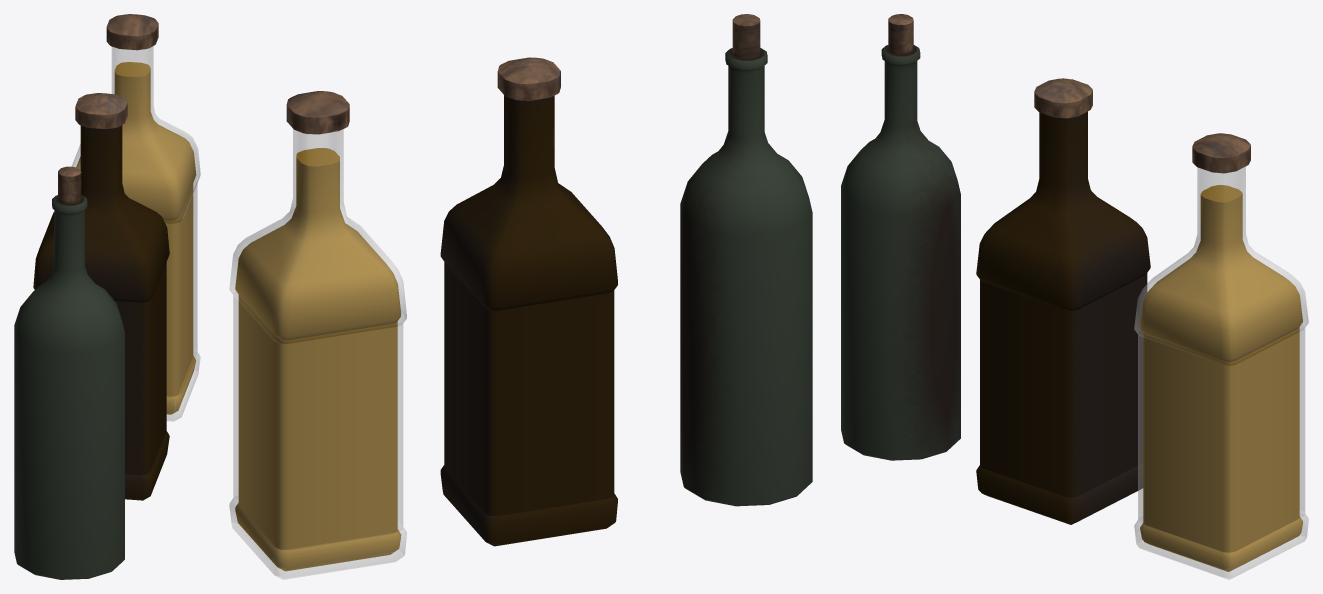
The model's file is whiskey-and-wine-low-poly-bottles-99999f.glb.
The picture shows the model from 3 angles, left to right: view 1: azimuth 30°, elevation 25°; view 2: azimuth 150°, elevation 25°; view 3: azimuth 270°, elevation 25°; orthographic projection. The views are drawn at different scales.
Visible parts, largest first — view 1: PropMesh; view 2: PropMesh; view 3: PropMesh.
Part boxes in pixels (x1,y1,x2,y2): PropMesh: [14, 14, 200, 579]; PropMesh: [229, 14, 812, 579]; PropMesh: [841, 14, 1308, 579].
Size of the model in its own units: 0.3122 by 0.35 by 0.3556.
3 materials, 3 textured.
